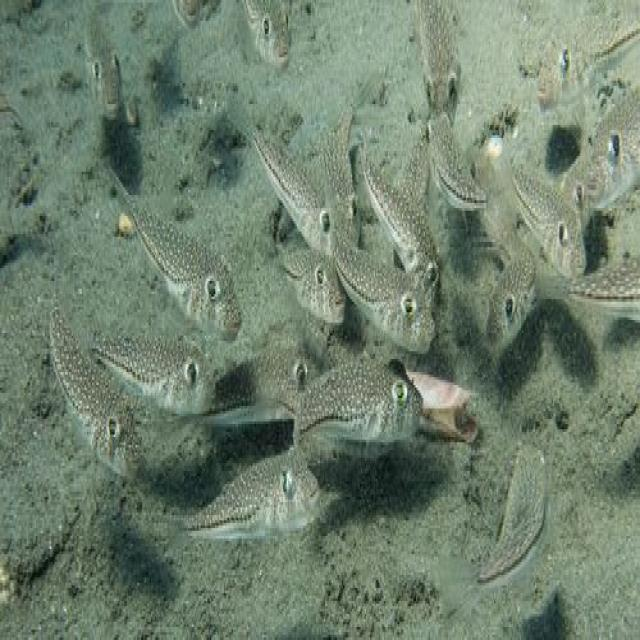Balik: (49, 307, 140, 476), (186, 451, 319, 538), (93, 336, 213, 416)
